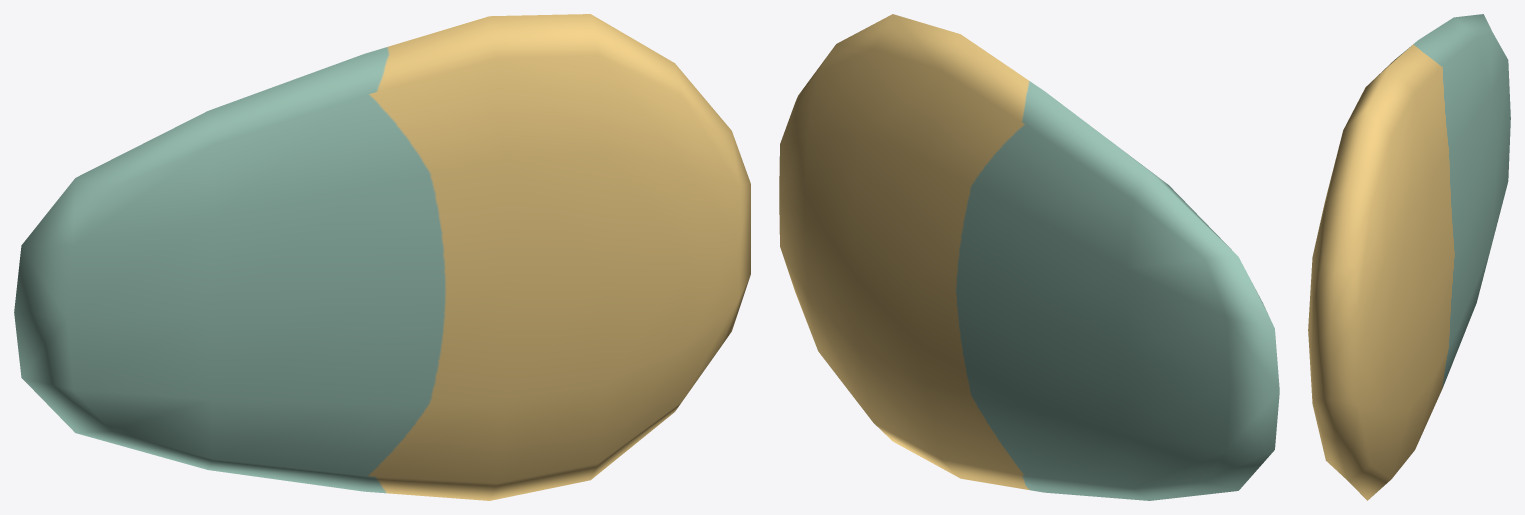
The model's file is Fin.fbx.
3 views of the same model, side by side, from view 1: azimuth 30°, elevation 25°; view 2: azimuth 150°, elevation 25°; view 3: azimuth 270°, elevation 25° (orthographic). The views are drawn at different scales.
Parts seen in each view (by area): view 1: polySurface1; view 2: polySurface1; view 3: polySurface1.
Part boxes in pixels (bbox=[...]): polySurface1: bbox=[14, 14, 750, 500]; polySurface1: bbox=[779, 14, 1279, 500]; polySurface1: bbox=[1308, 14, 1510, 500].
Size of the model in its own units: 77.69 by 56.41 by 25.4.
